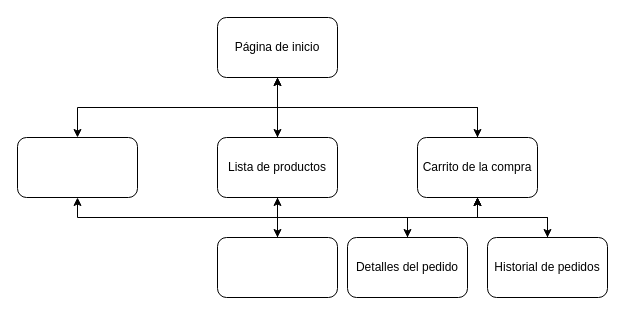
The diagram is 625 pixels wide and 315 high, and some of its shapes have lost their labels. The shapes that lost their labels are listed below. From the top down, each one's centre as x and y in pixels, then its label:
At (77,167): "Registro/identificación del usuario".
At (277,267): "Detalles del producto".
